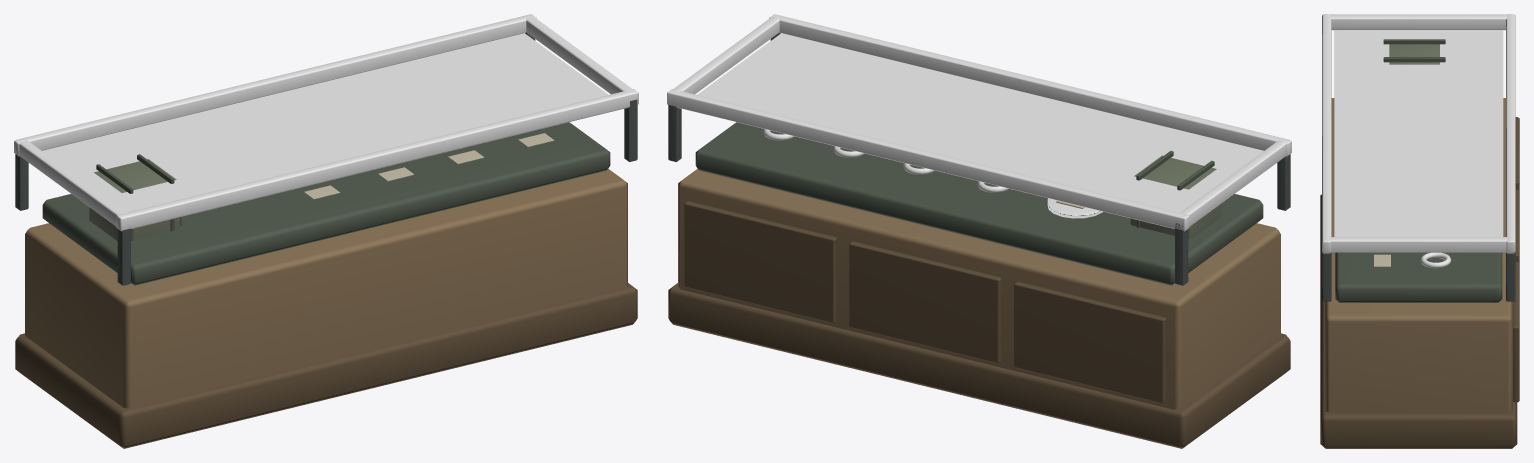
The model's file is PawnDisplay62.fbx.
3 renders of one model, left to right at view 1: azimuth 30°, elevation 25°; view 2: azimuth 150°, elevation 25°; view 3: azimuth 270°, elevation 25°, orthographic. The views are drawn at different scales.
Visible parts, largest first — view 1: PawnDisplay62; view 2: PawnDisplay62; view 3: PawnDisplay62.
Part boxes in pixels (x1,y1,x2,y2): PawnDisplay62: (14, 14, 638, 448); PawnDisplay62: (667, 14, 1291, 448); PawnDisplay62: (1320, 14, 1519, 448).
Bounding box in the file's own units: 252 × 108 × 93.05.
